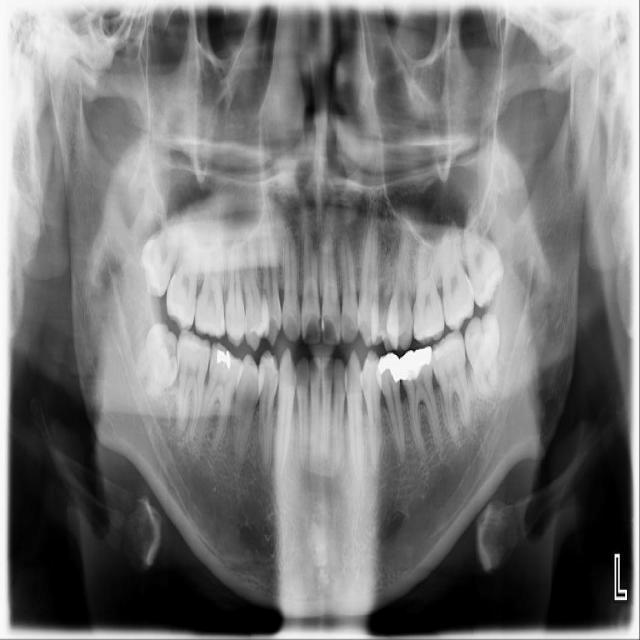Filling: (399, 345, 433, 382), (377, 353, 401, 383), (214, 348, 236, 369)
impacted tooth: (142, 208, 194, 298), (464, 208, 504, 304), (464, 315, 503, 405), (137, 325, 180, 396)
